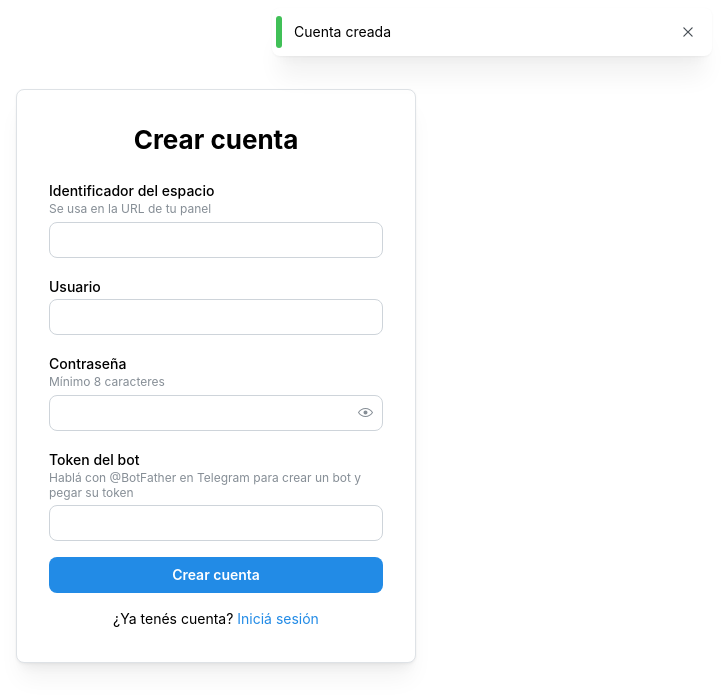
Scenario: SignupPage › 409 que menciona username muestra el error junto al campo username
The image size is (724, 698).
In the field labelled "Identificador del espacio": (216, 240) x1=49 y1=222 x2=383 y2=258, type "acme"
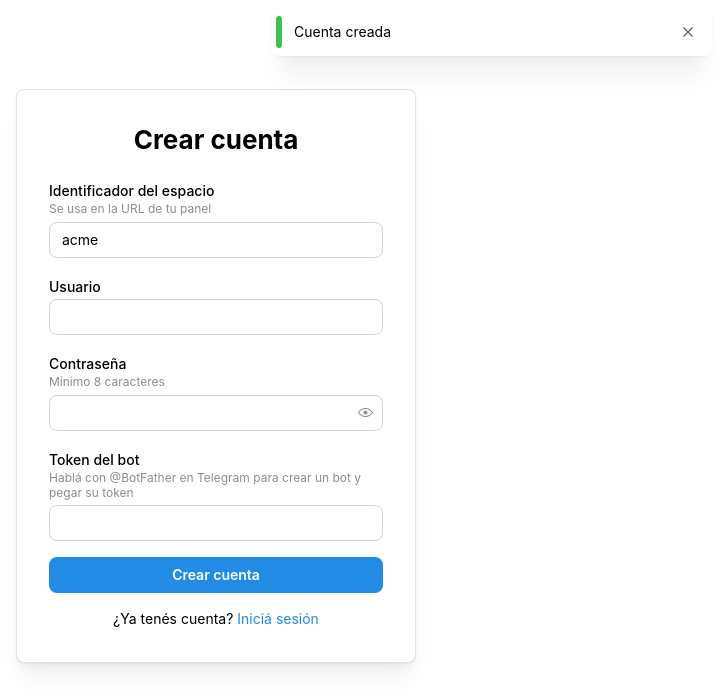
In the field labelled "Usuario": (216, 316) x1=49 y1=298 x2=383 y2=334, type "juan"
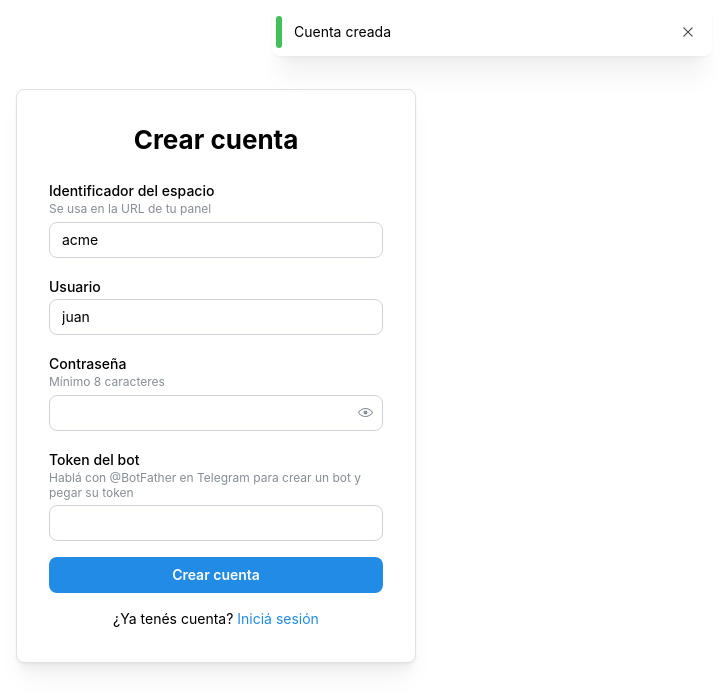
In the password field labelled "Contraseña": (216, 413) x1=50 y1=396 x2=382 y2=430, type "secreto123"
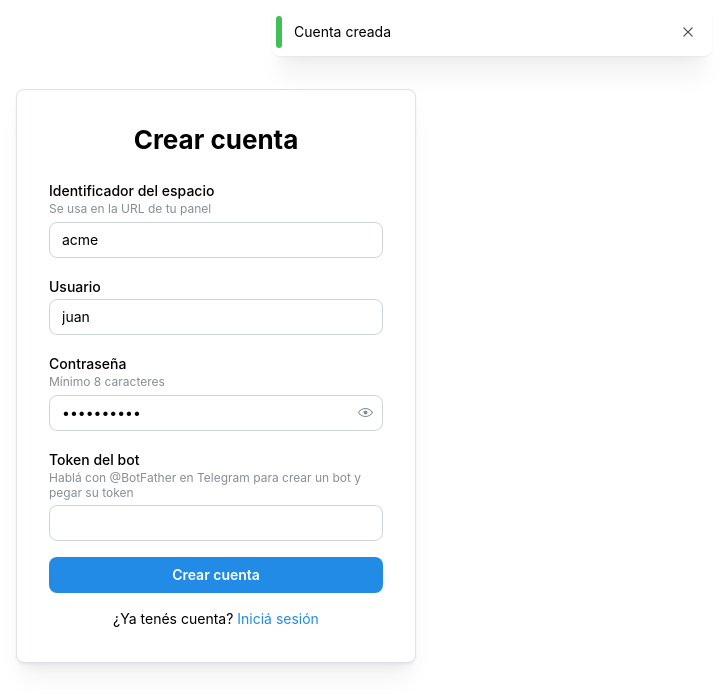
In the field labelled "Token del bot": (216, 523) x1=49 y1=505 x2=383 y2=541, type "SIGNUP_BOT_TOKEN_EXAMPLE"
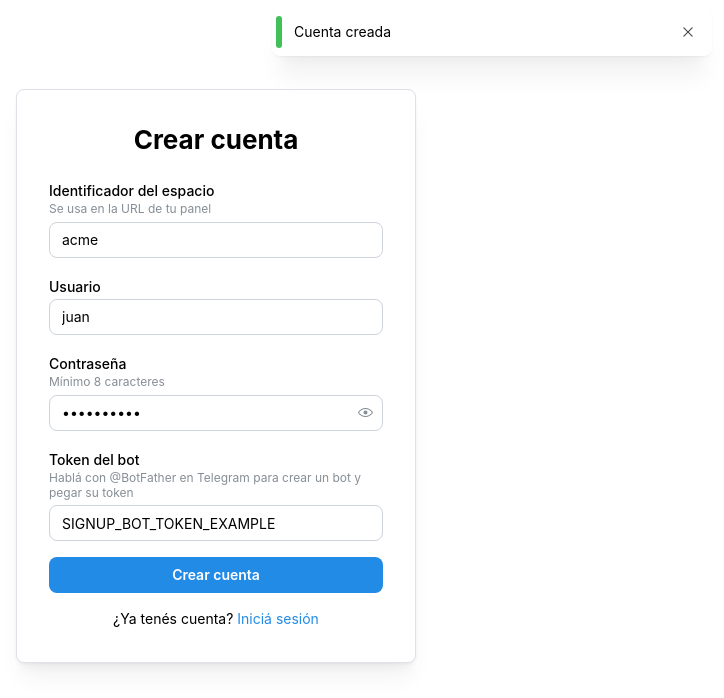
Click the button "Crear cuenta": (216, 575) x1=49 y1=557 x2=383 y2=593
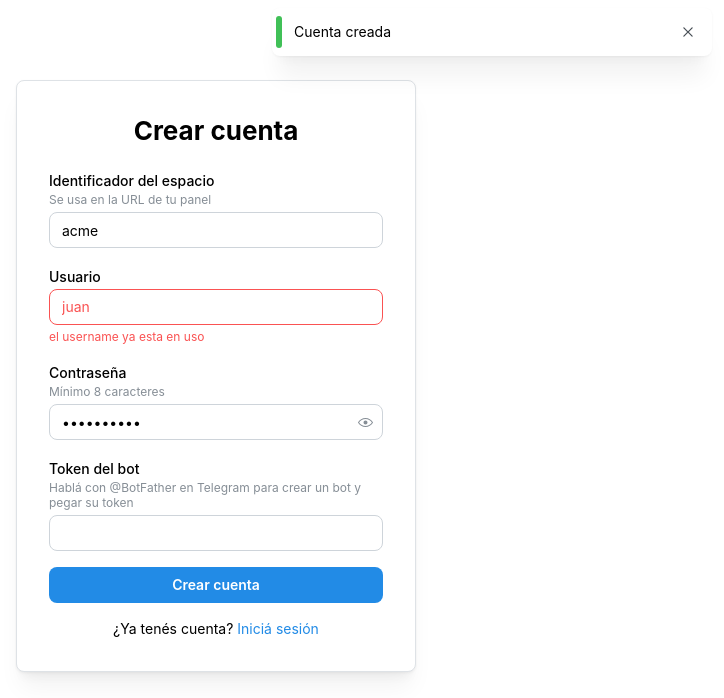
Now the text "el username ya esta en uso" is shown, box x1=49 y1=329 x2=204 y2=344
